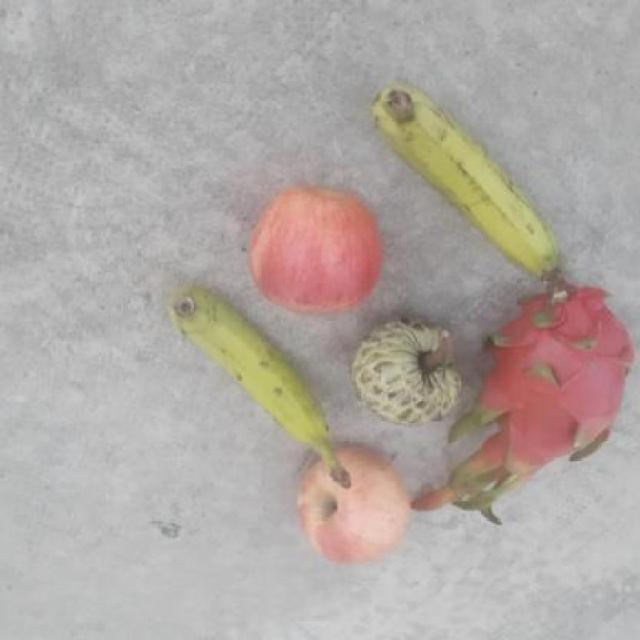apple: (248, 182, 387, 320), (295, 442, 416, 569)
banana: (368, 77, 561, 283), (166, 284, 357, 488)
dragon fruit: (471, 278, 640, 478)
sugar apple: (348, 310, 464, 428)
